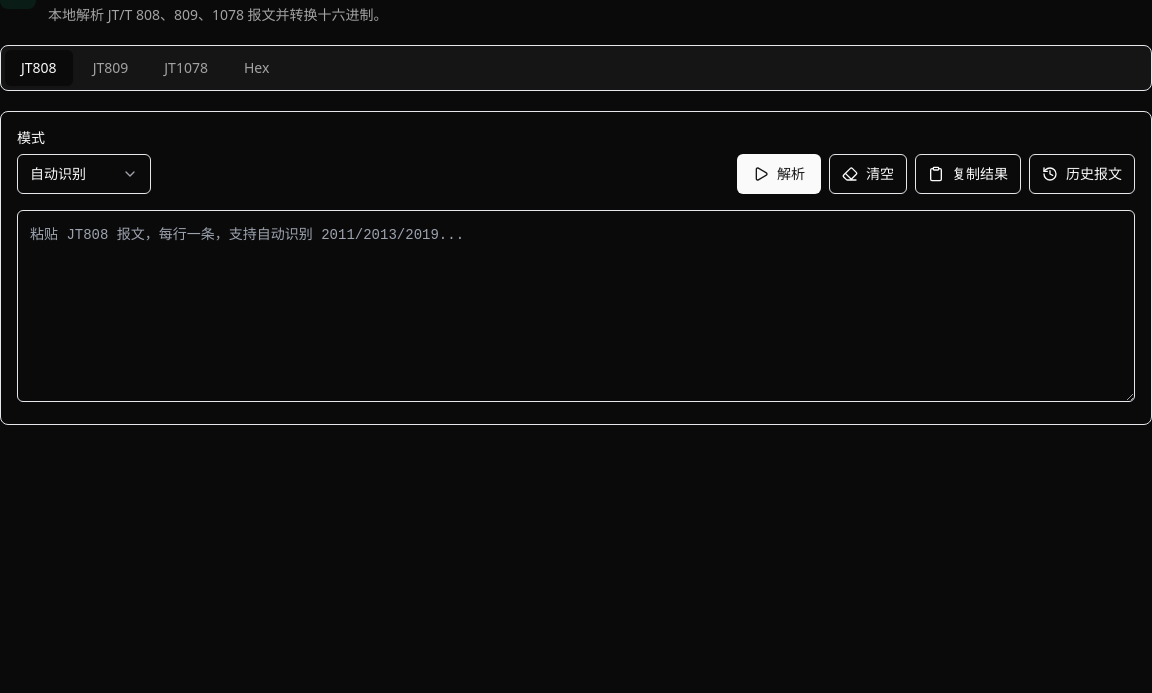
Test: JttDataParserTool › keeps each mounted tab's input, controls, result, and errors when switching tabs
In the text box labelled "粘贴 JT808 报文，每行一条，支持自动识别 2011/2013/2019...": (576, 306) 17,210 -> 1135,402, type "7E0801402A01312345678904000000000102030401000000000000000201E93D760714B7DA000C002D005A26090414300001027D027D010304767E"
Click the button "解析": (779, 174) 737,154 -> 821,194
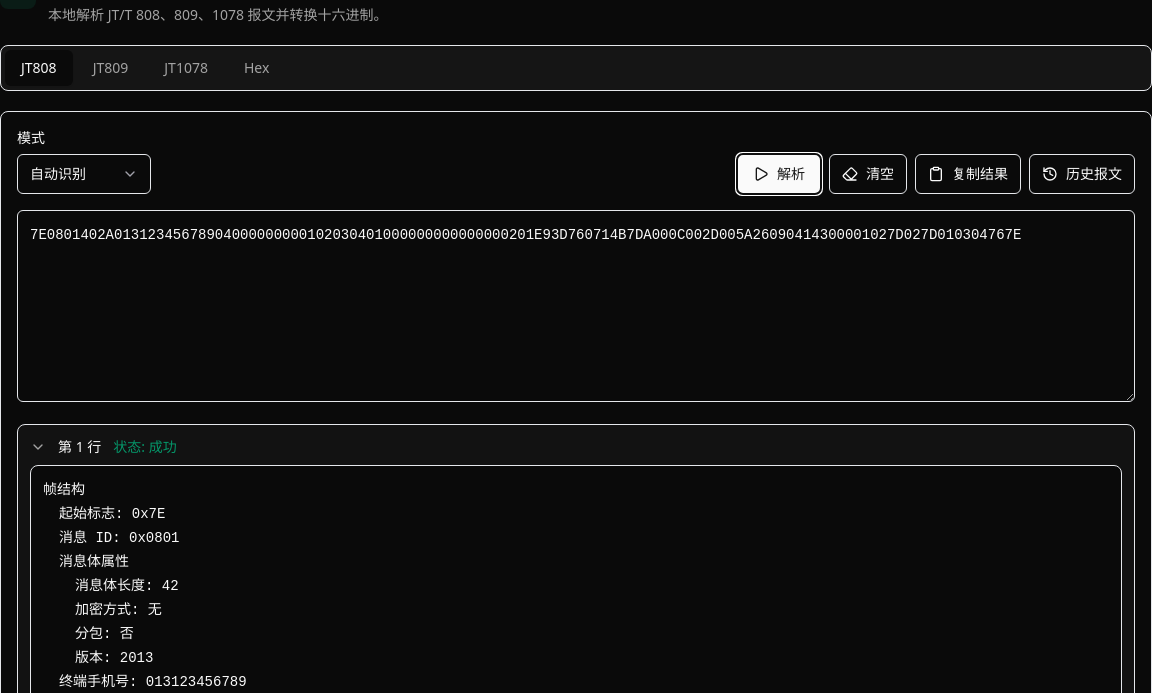
Result: the text "消息 ID: 0x0801" is shown at 59,530 -> 179,546
Click the tab "JT809": (110, 68) 77,50 -> 144,86
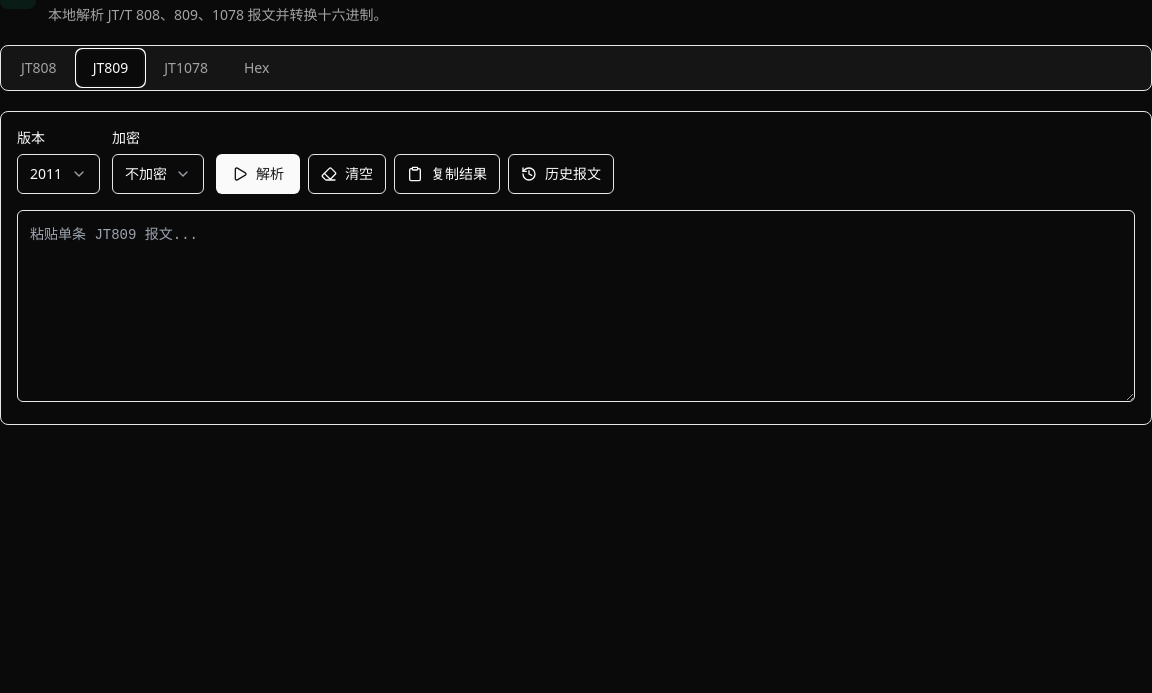
In the text box labelled "粘贴单条 JT809 报文...": (576, 306) 17,210 -> 1135,402, type "000000401234020000000001000000022609041430000000000027E88B8F4131323334350001000000000000000201E93D760714B7DA000C002D005A2609041430006FB47B7E"
Select "2019" in the dropdown labelled "版本": (58, 174) 17,154 -> 100,194
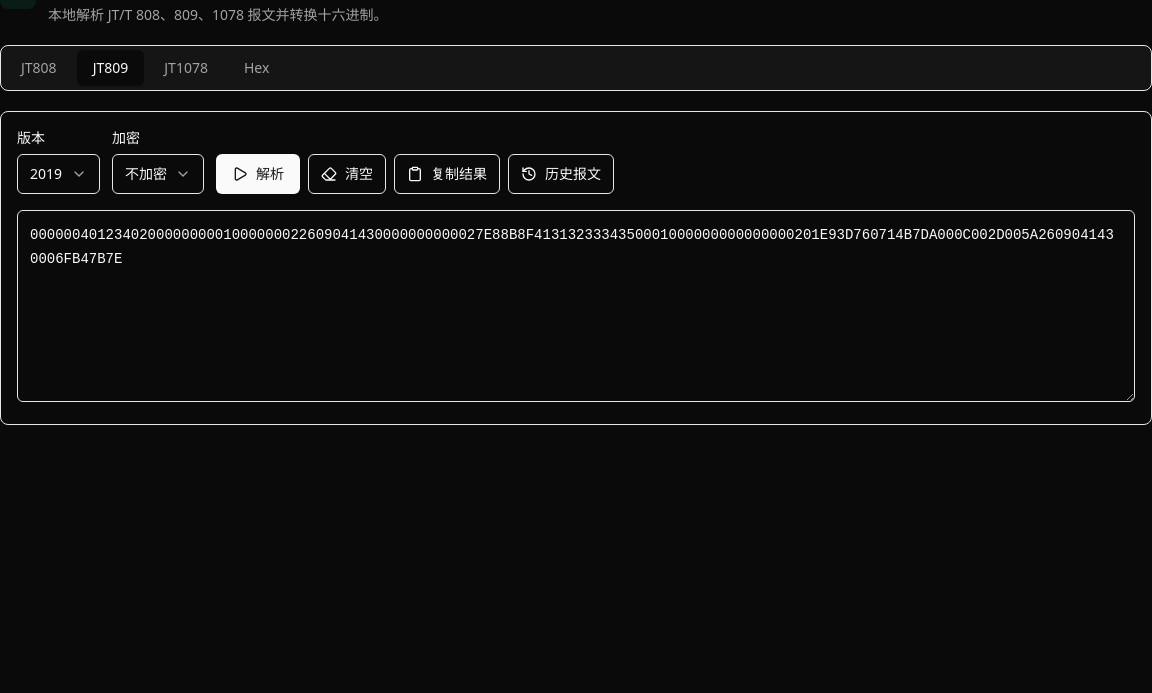
Click the button "解析": (258, 174) 216,154 -> 300,194
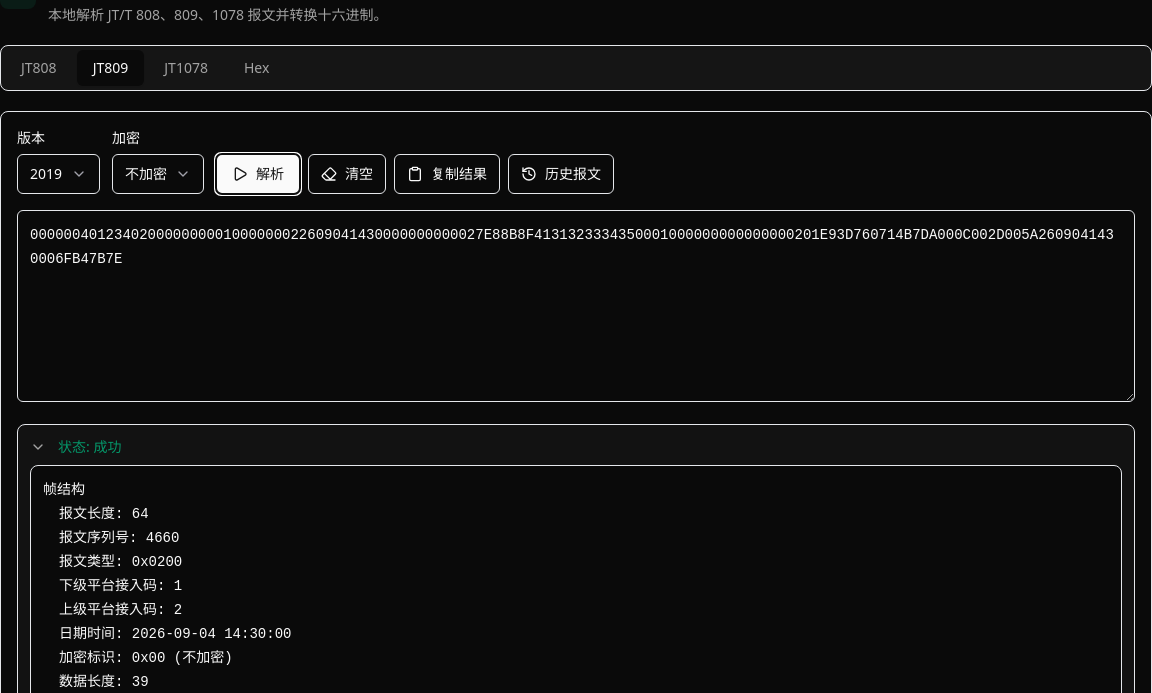
Click the tab "JT808": (39, 68) 5,50 -> 73,86
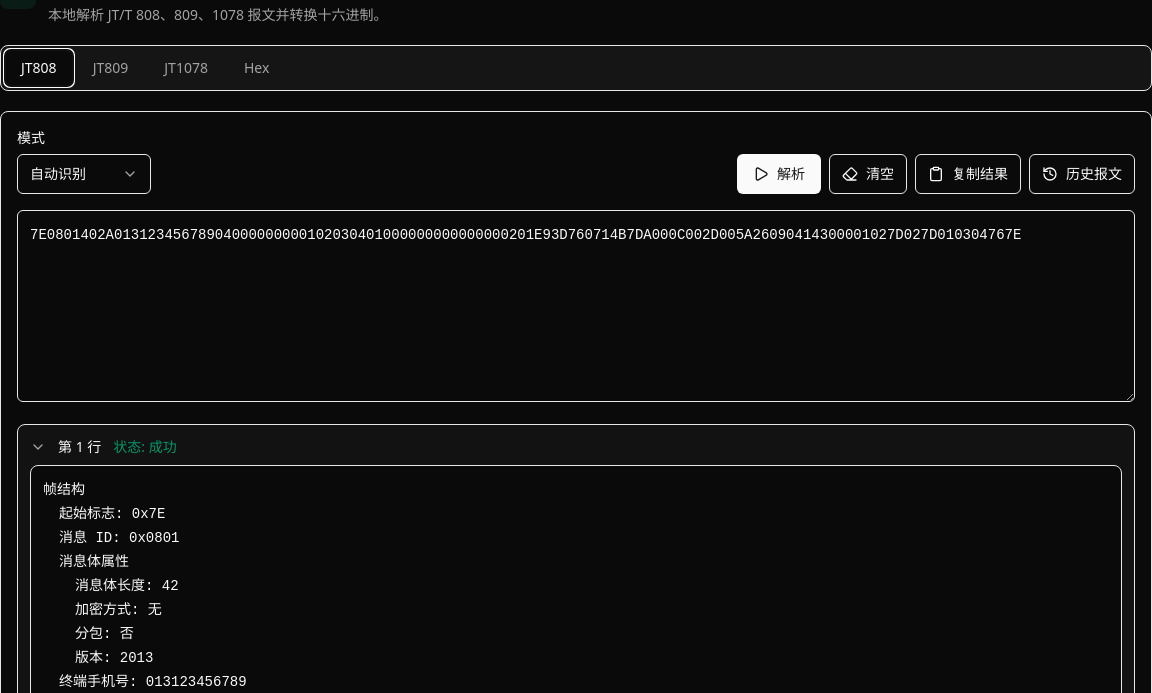
Result: the text box holds "7E0801402A01312345678904000000000102030401000000000000000201E93D760714B7DA000C002D005A26090414300001027D027D010304767E" at 17,210 -> 1135,402
Result: the text "消息 ID: 0x0801" is shown at 59,530 -> 179,546
Click the tab "JT809": (110, 68) 77,50 -> 144,86
(page scrolled)
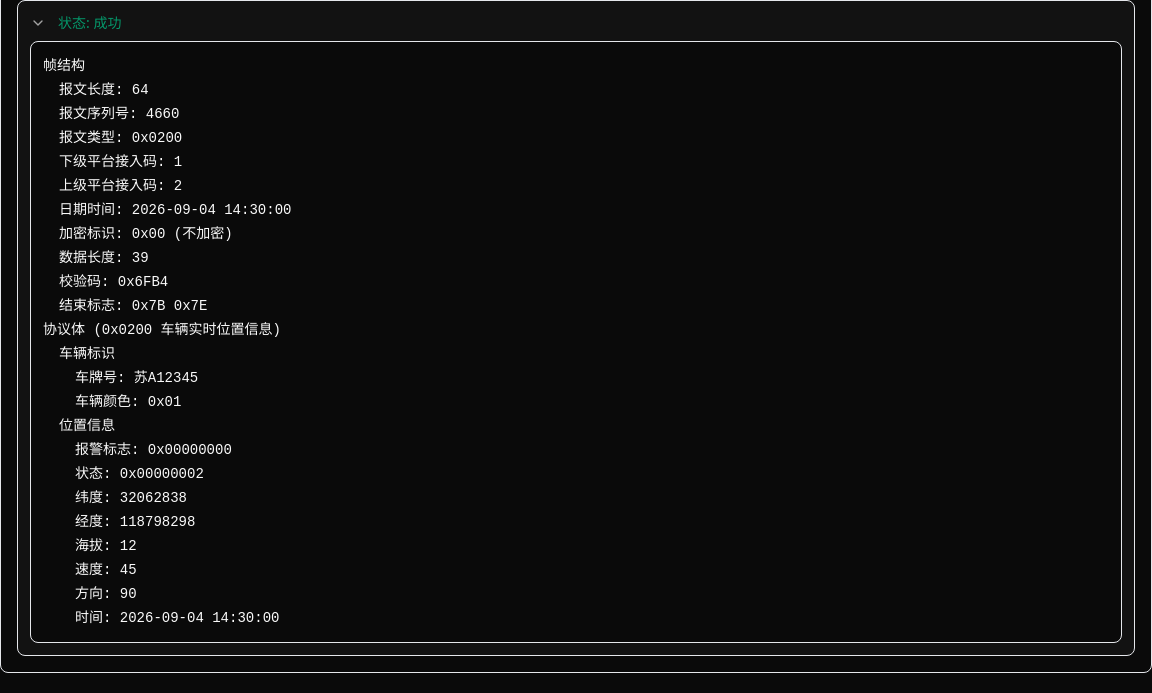
Result: the text "车牌号: 苏A12345" is shown at 75,370 -> 198,386
